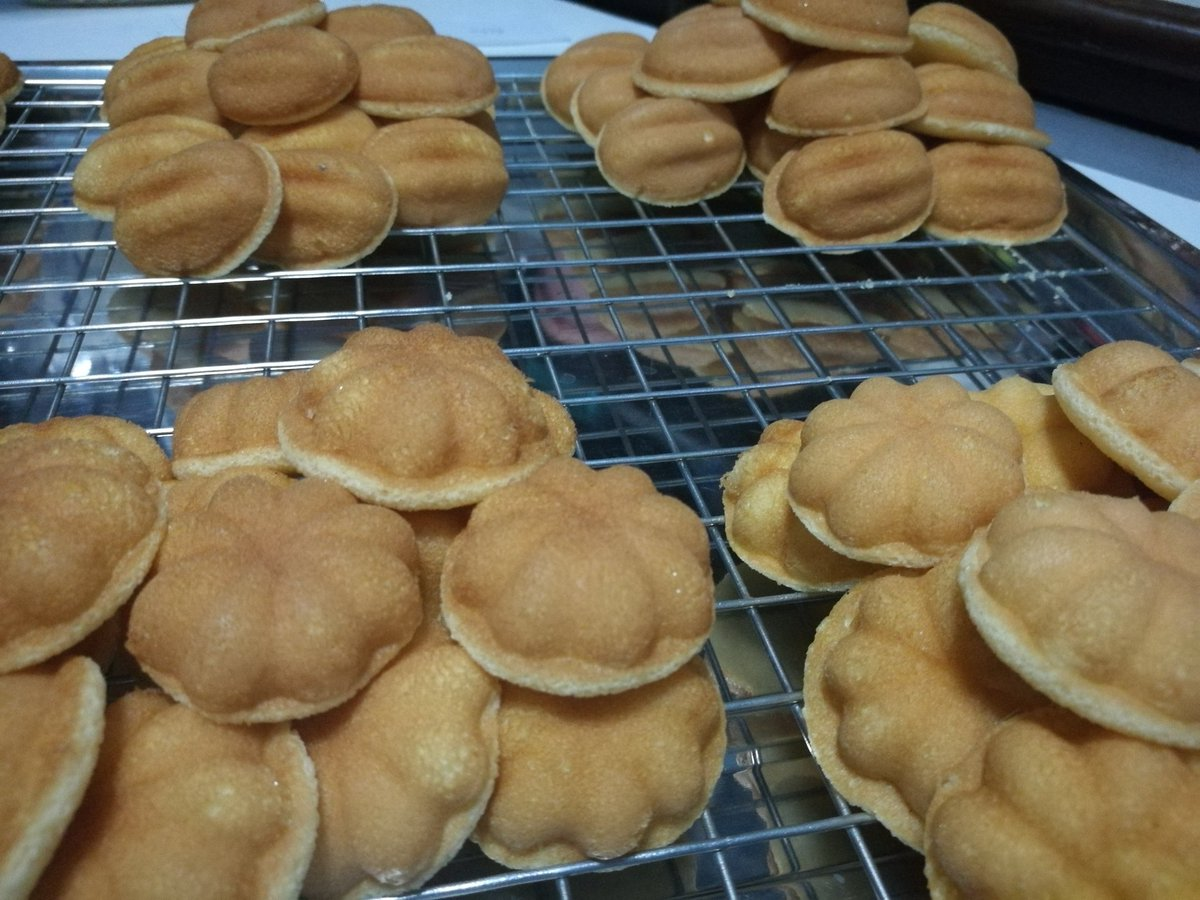kanomkai: (117, 459, 436, 737), (431, 449, 730, 710), (784, 356, 1050, 591), (284, 319, 589, 495), (82, 142, 303, 311), (762, 114, 945, 280), (582, 90, 759, 221)
